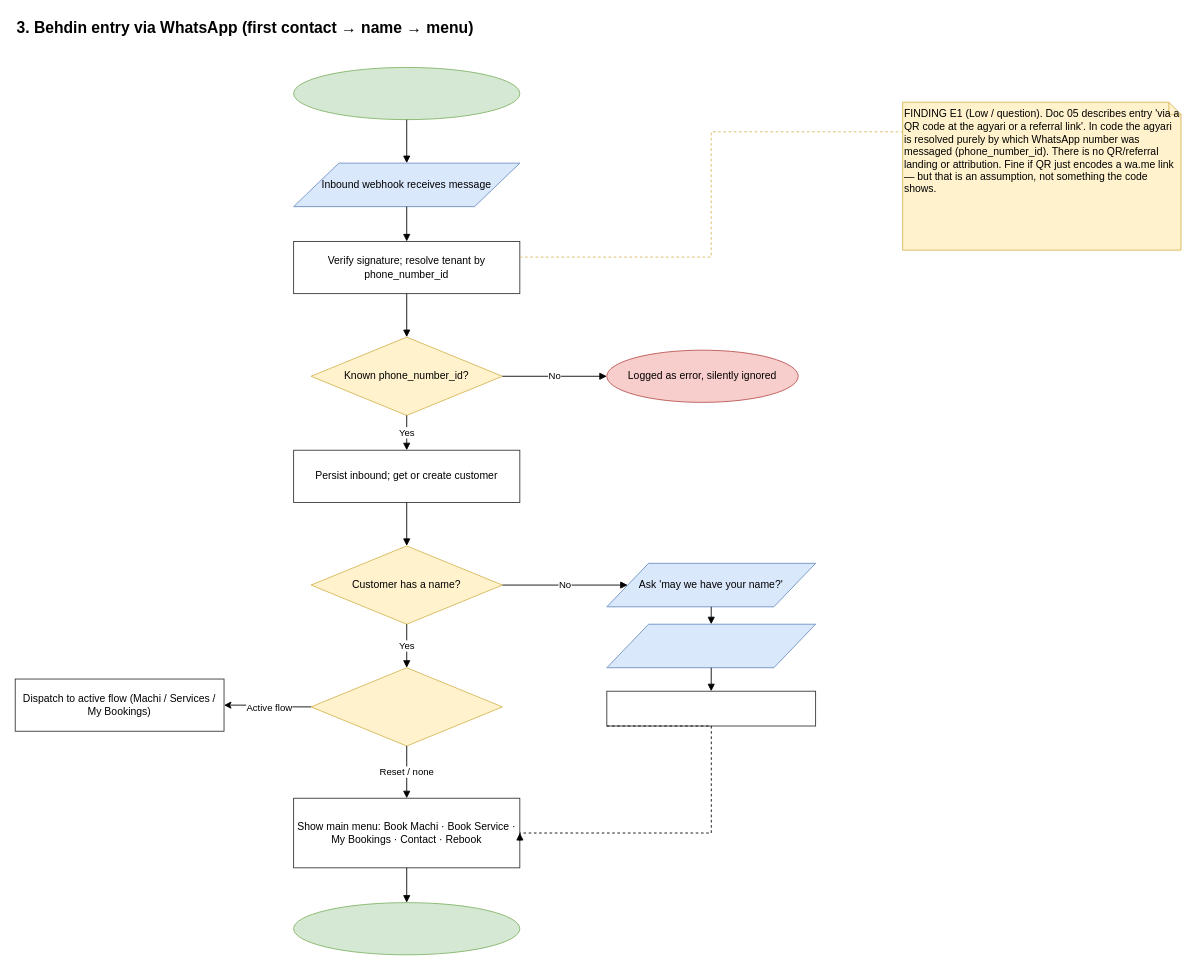
Some shapes in this 1196 by 970 pixel diagram are drawn without their labels. Here are the shapes that lost their labels. From the top down, the centre of each, then its label:
(406,93): Behdin messages the agyari's WhatsApp number
(711,645): Behdin replies with name
(406,706): Reset keyword or active flow?
(711,708): Save name
(406,928): Await selection → Machi (Flow 4) or Services (Flow 5)
